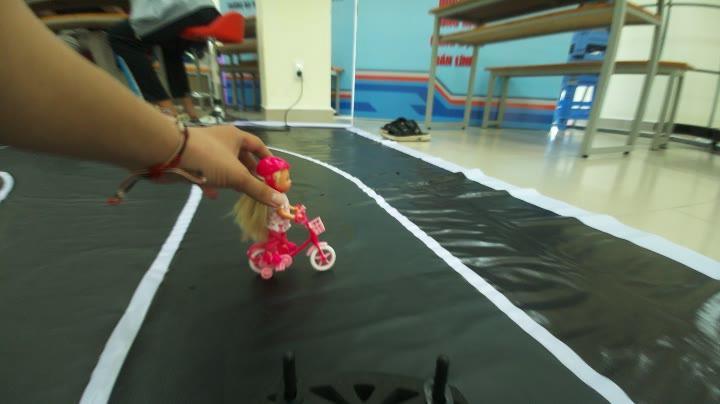pedestrian: (237, 155, 338, 274)
